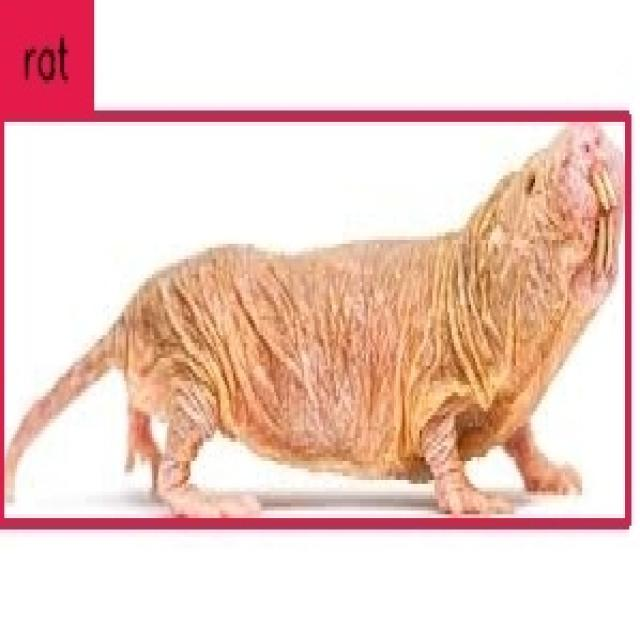rat: (1, 114, 628, 522)
